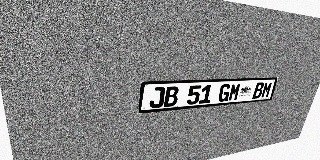plate: (138, 77, 278, 114)
